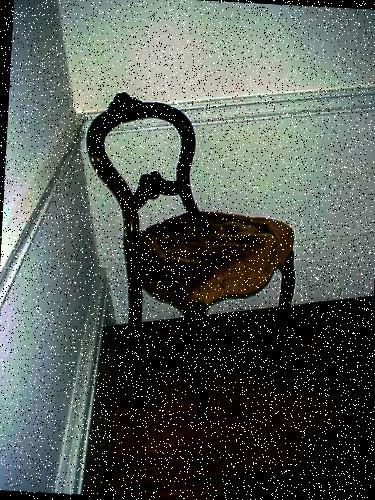Silla: (74, 86, 312, 426)
